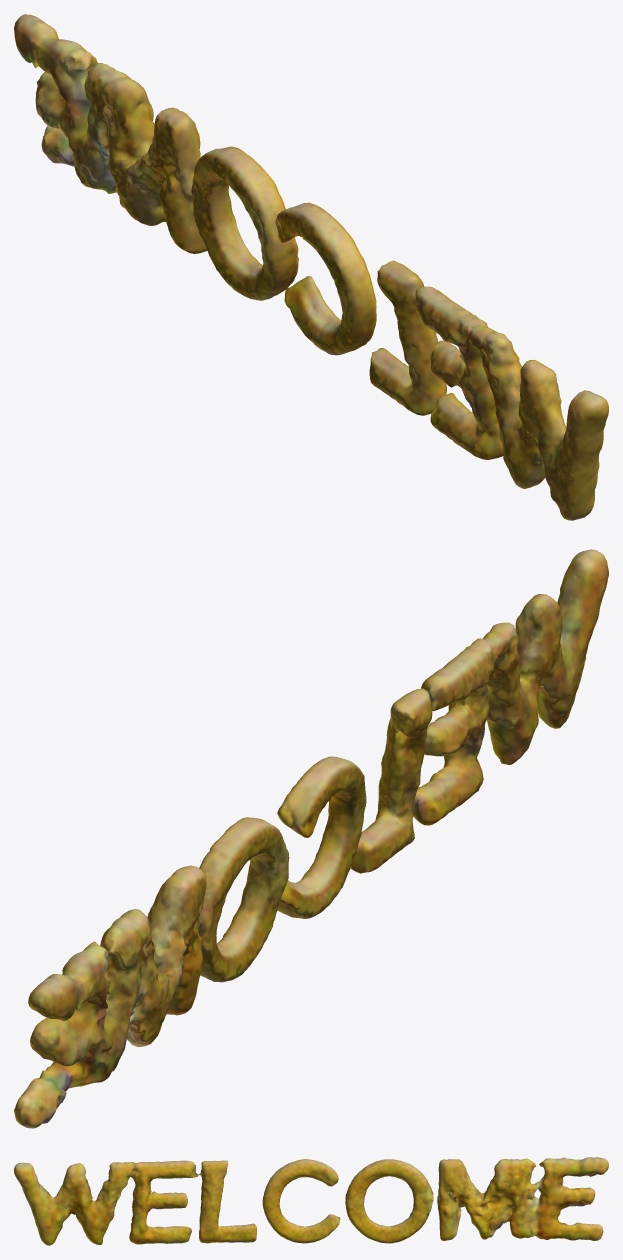
Rendered from welcome.glb.
3 views of the same model, one above another, from view 1: azimuth 30°, elevation 25°; view 2: azimuth 150°, elevation 25°; view 3: azimuth 270°, elevation 25° (orthographic). The views are drawn at different scales.
Visible parts, largest first — view 1: Mesh1; view 2: Mesh1; view 3: Mesh1.
Boxes of the visible parts, <box> form: Mesh1: <box>14,14,608,520</box>; Mesh1: <box>14,549,608,1128</box>; Mesh1: <box>14,1157,608,1245</box>.
Bounding box in the file's own units: 0.0904 × 0.1768 × 1.2.
1 material, 1 textured.
